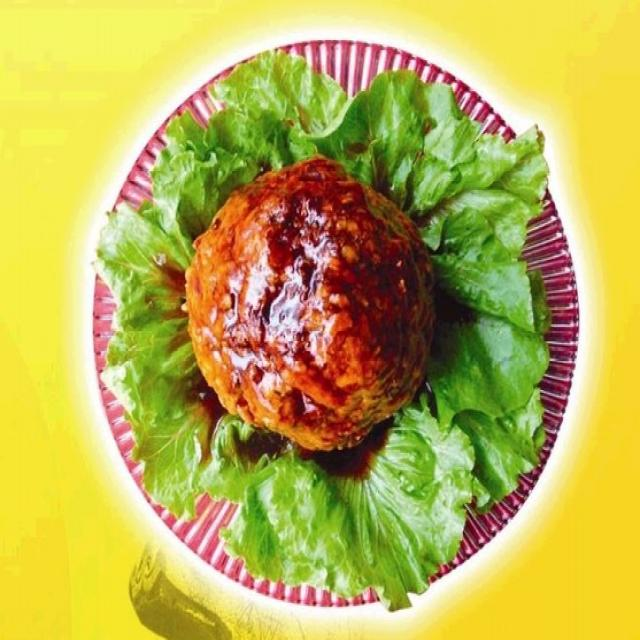Meatball: (172, 147, 448, 457)
